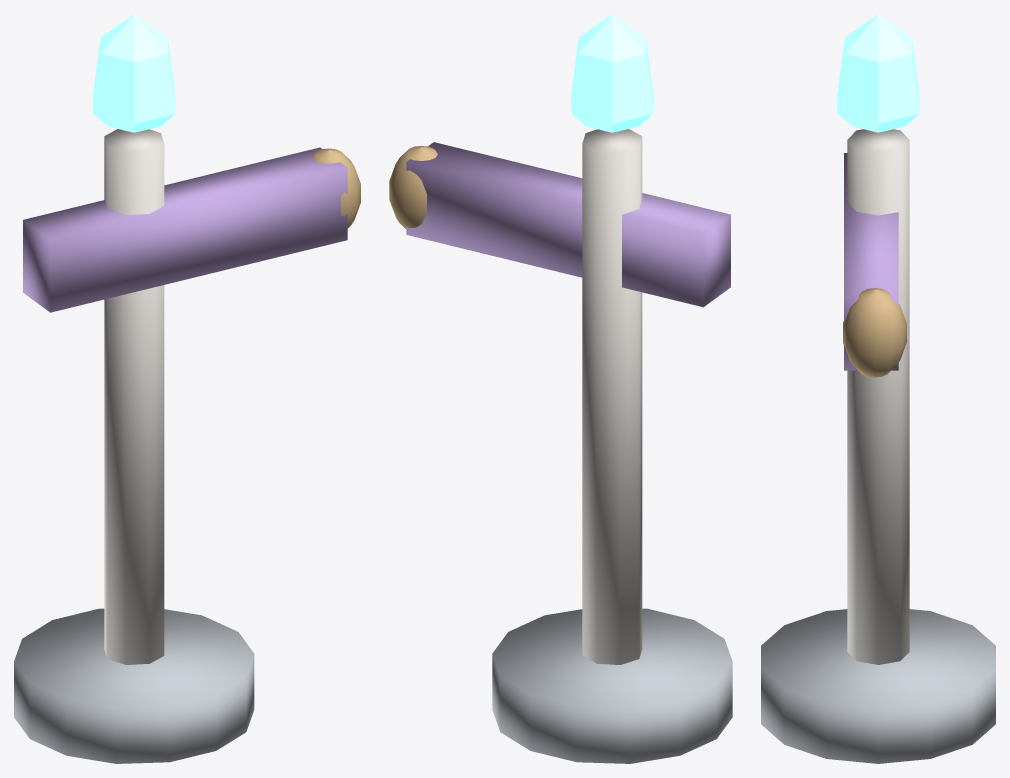
The model's file is way_harmonic_arrow.glb.
3 renders of one model, left to right at view 1: azimuth 30°, elevation 25°; view 2: azimuth 150°, elevation 25°; view 3: azimuth 270°, elevation 25°, orthographic.
Parts seen in each view (by area): view 1: WAY_harmonic_arrow_arrow_shaft, WAY_harmonic_arrow_foot, WAY_harmonic_arrow_post, WAY_harmonic_arrow_finial, WAY_harmonic_arrow_arrow_gem; view 2: WAY_harmonic_arrow_post, WAY_harmonic_arrow_foot, WAY_harmonic_arrow_arrow_shaft, WAY_harmonic_arrow_finial, WAY_harmonic_arrow_arrow_gem; view 3: WAY_harmonic_arrow_foot, WAY_harmonic_arrow_post, WAY_harmonic_arrow_finial, WAY_harmonic_arrow_arrow_shaft, WAY_harmonic_arrow_arrow_gem.
Part boxes in pixels (<box>): WAY_harmonic_arrow_arrow_shaft: <box>23,147,347,312</box>; WAY_harmonic_arrow_foot: <box>14,608,254,763</box>; WAY_harmonic_arrow_post: <box>104,129,164,664</box>; WAY_harmonic_arrow_finial: <box>93,14,175,132</box>; WAY_harmonic_arrow_arrow_gem: <box>312,148,360,228</box>; WAY_harmonic_arrow_post: <box>582,129,642,664</box>; WAY_harmonic_arrow_foot: <box>492,608,732,763</box>; WAY_harmonic_arrow_arrow_shaft: <box>406,142,730,307</box>; WAY_harmonic_arrow_finial: <box>571,14,653,132</box>; WAY_harmonic_arrow_arrow_gem: <box>389,145,437,228</box>; WAY_harmonic_arrow_foot: <box>761,609,995,763</box>; WAY_harmonic_arrow_post: <box>847,129,909,664</box>; WAY_harmonic_arrow_finial: <box>837,14,919,132</box>; WAY_harmonic_arrow_arrow_shaft: <box>844,153,898,370</box>; WAY_harmonic_arrow_arrow_gem: <box>843,288,906,377</box>.
Bounding box in the file's own units: 1.03 × 2.12 × 0.6435.
